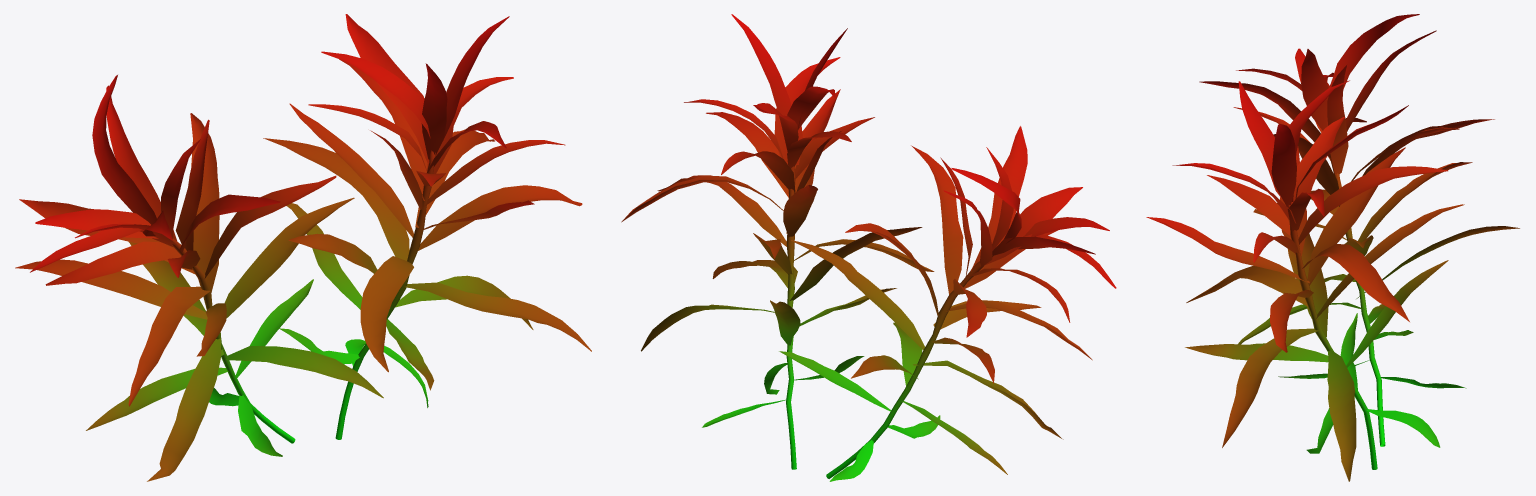
File: Butterfly Weed_LOD0_Var10.fbx
3 renders of one model, left to right at view 1: azimuth 30°, elevation 25°; view 2: azimuth 150°, elevation 25°; view 3: azimuth 270°, elevation 25°, orthographic. The views are drawn at different scales.
Visible parts, largest first — view 1: _pc4m_Var10_LOD0; view 2: _pc4m_Var10_LOD0; view 3: _pc4m_Var10_LOD0.
Boxes of the visible parts, x1,y1,x2,y2 form: _pc4m_Var10_LOD0: [15, 14, 591, 481]; _pc4m_Var10_LOD0: [621, 14, 1116, 481]; _pc4m_Var10_LOD0: [1146, 14, 1519, 481].
Size of the model in its own units: 50.38 by 39.3 by 33.56.
